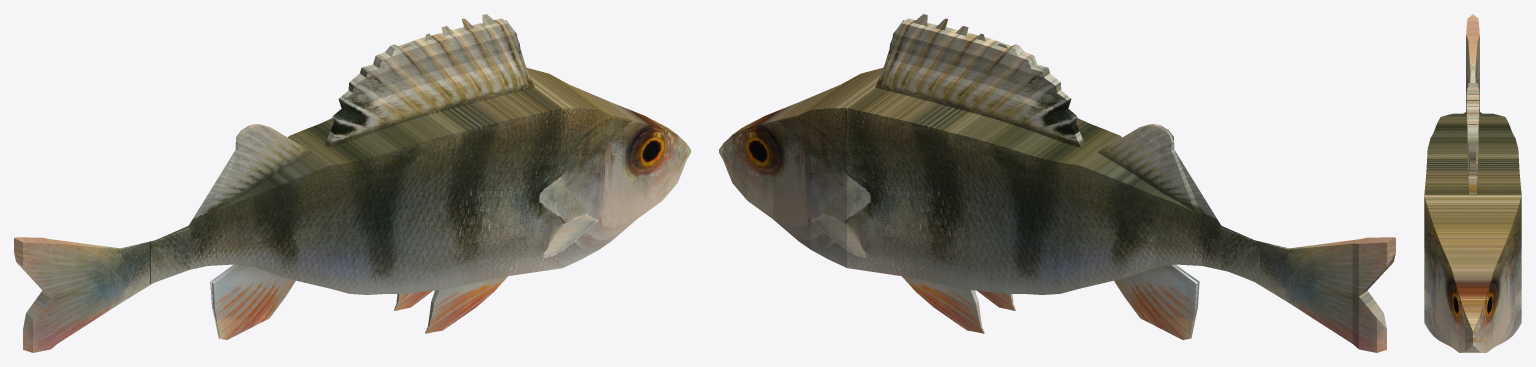
Rendered from baars.obj.
3 views of the same model, side by side, from view 1: azimuth 30°, elevation 25°; view 2: azimuth 150°, elevation 25°; view 3: azimuth 270°, elevation 25° (orthographic). The views are drawn at different scales.
Visible parts, largest first — view 1: Cube, Cube.001; view 2: Cube, Cube.001; view 3: Cube.
Boxes of the visible parts, x1,y1,x2,y2 form: Cube: (14, 14, 690, 352); Cube.001: (150, 228, 190, 283); Cube: (719, 14, 1395, 352); Cube.001: (1220, 228, 1259, 283); Cube: (1424, 14, 1521, 352).
Bounding box in the file's own units: 0.7155 × 0.2939 × 0.1117.
